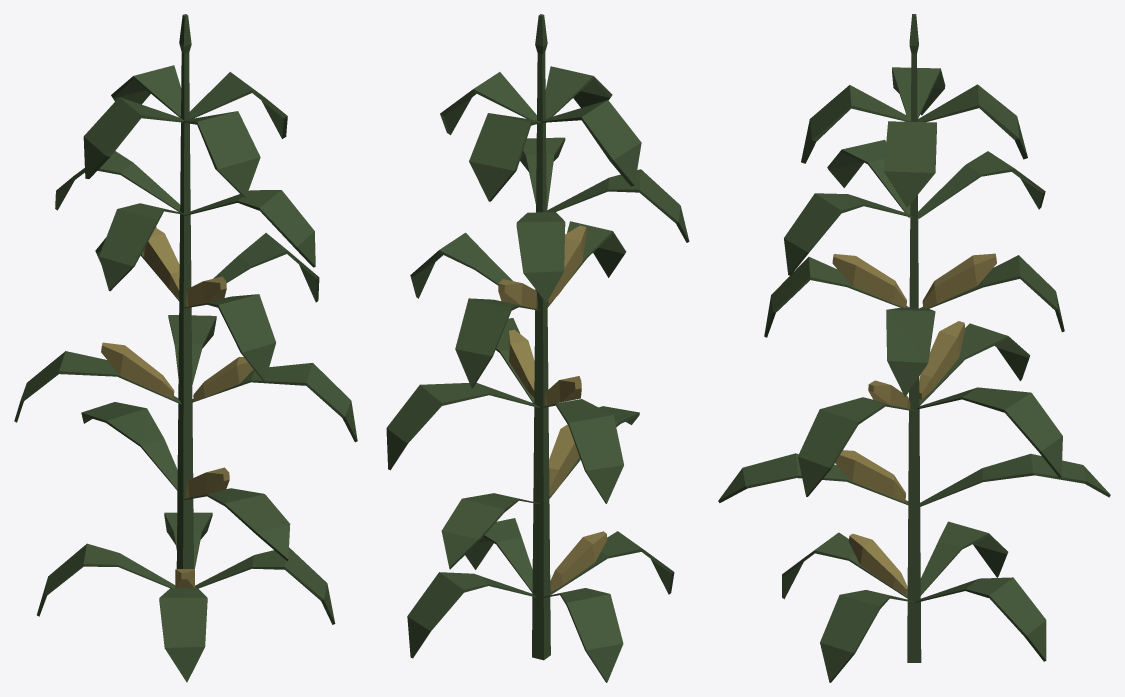
Rendered from Corn_2.glb.
3 renders of one model, left to right at view 1: azimuth 30°, elevation 25°; view 2: azimuth 150°, elevation 25°; view 3: azimuth 270°, elevation 25°, orthographic.
Parts seen in each view (by area): view 1: Corn_2_Cube.051; view 2: Corn_2_Cube.051; view 3: Corn_2_Cube.051.
Boxes of the visible parts, x1,y1,x2,y2 form: Corn_2_Cube.051: (14, 14, 357, 682); Corn_2_Cube.051: (386, 14, 689, 682); Corn_2_Cube.051: (718, 14, 1110, 682).
Bounding box in the file's own units: 0.8237 × 1.98 × 1.09.
